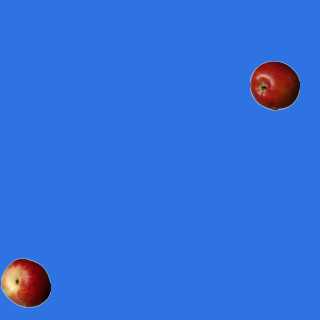Apple Braeburn: (249, 60, 299, 110)
Nectarine: (0, 257, 50, 307)
